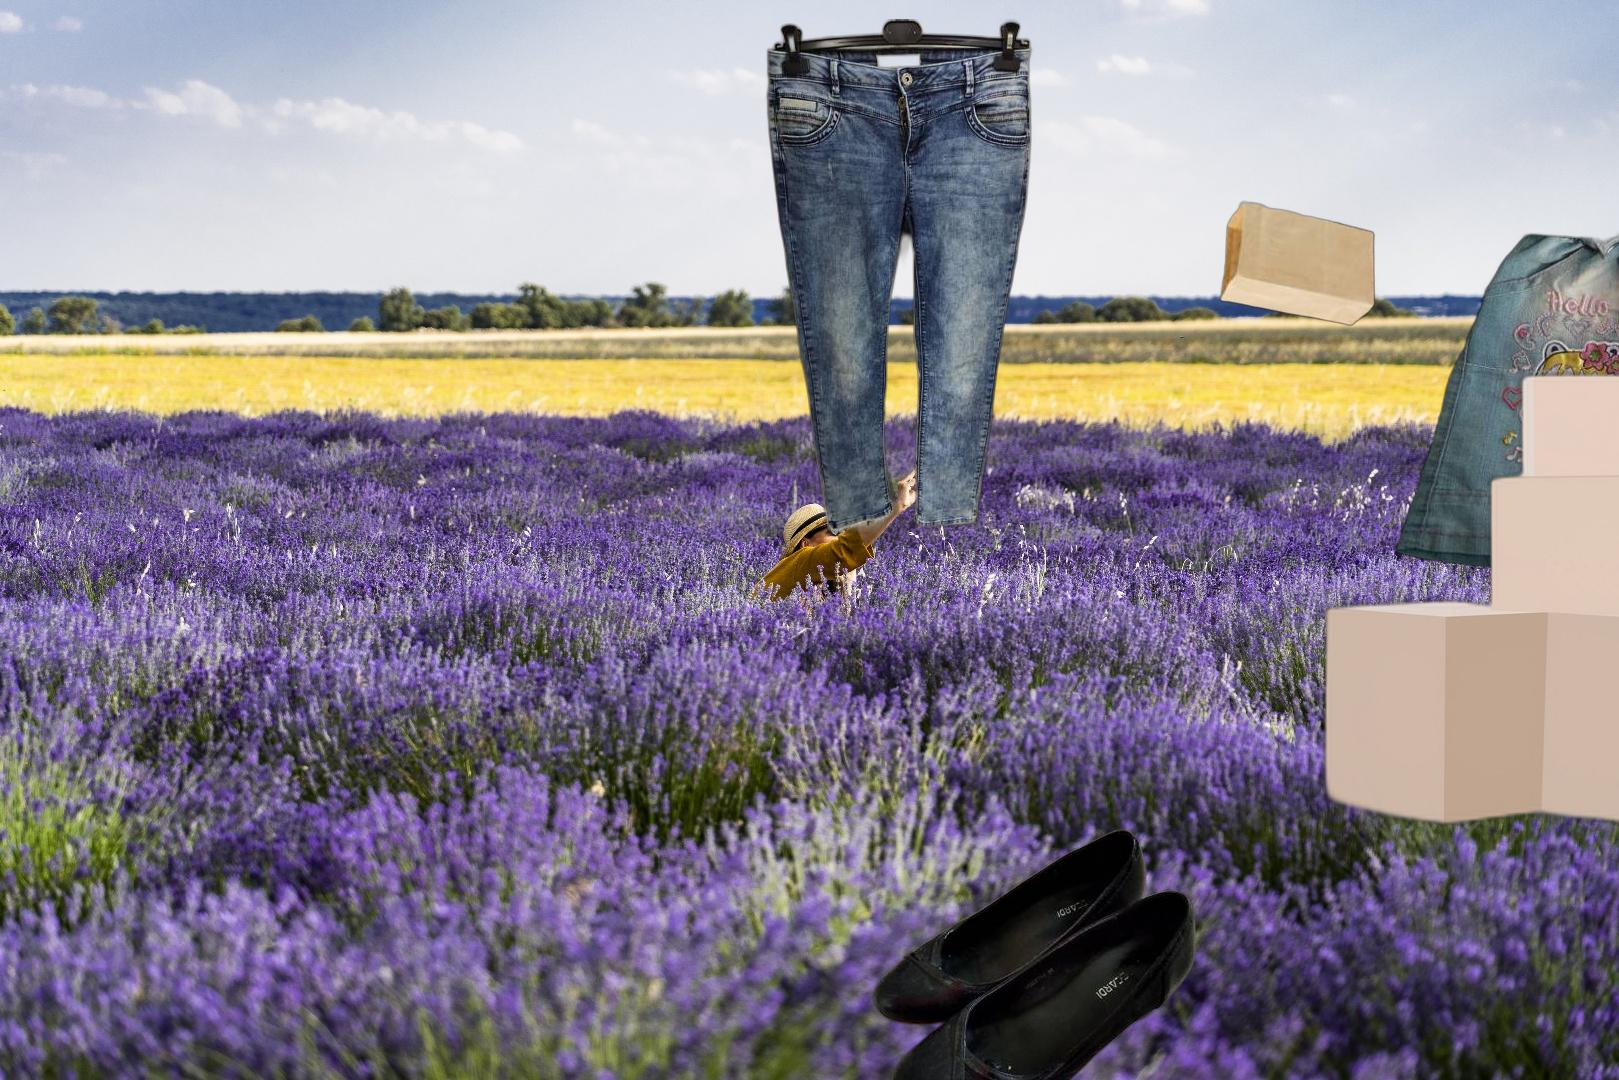clothes: (763, 19, 1036, 553), (1395, 212, 1619, 576), (1612, 949, 1619, 1080)
paper-bag: (1216, 199, 1378, 329)
shoes: (869, 817, 1199, 1080)
trashbox-cardboard: (1315, 364, 1619, 841)
